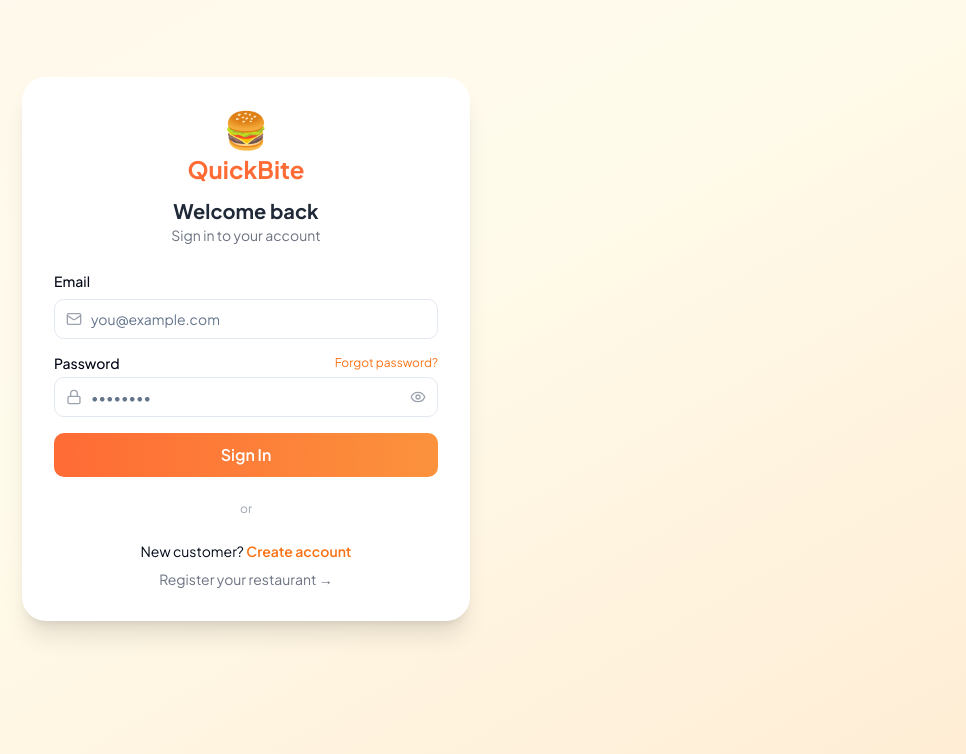
LoginPage › shows unverified email prompt for unconfirmed users
Step 1. Type "user@example.com" into the field with test id "email-input" → coordinates (246, 319), box [54, 299, 438, 339]
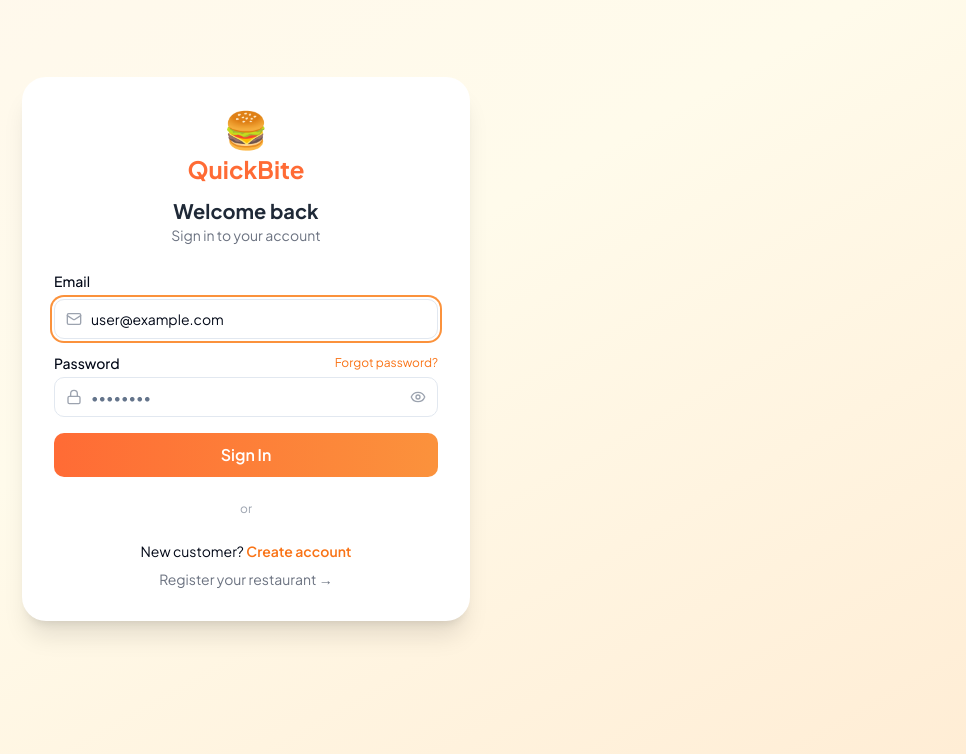
Step 2. Type "Password1!" into the password field with test id "password-input" → coordinates (246, 397), box [54, 377, 438, 417]
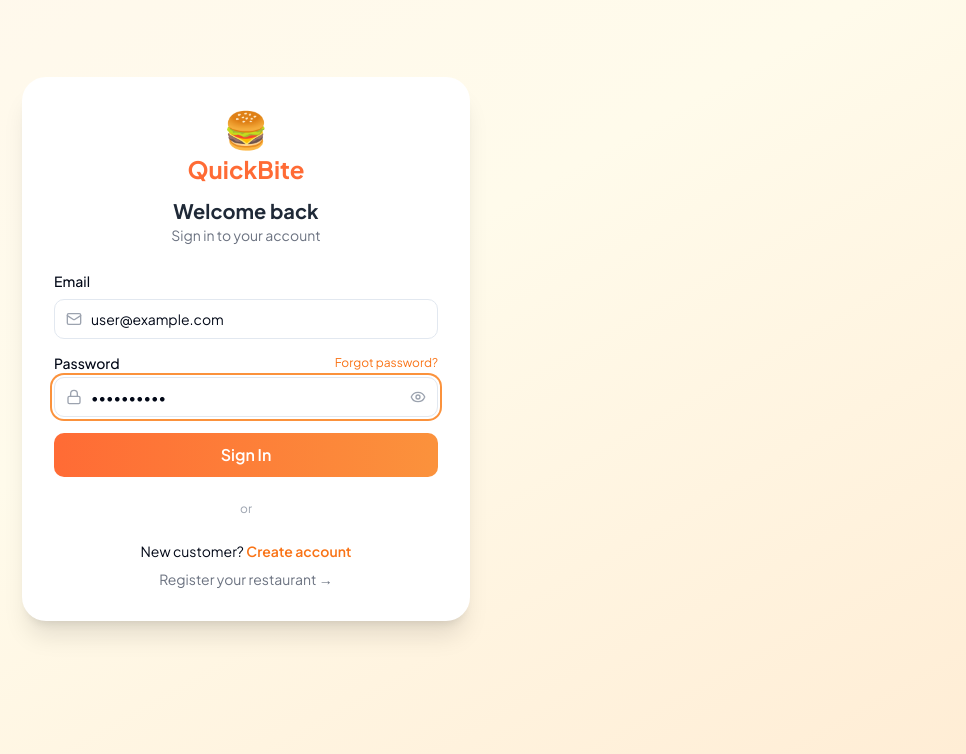
Step 3. Click the button with test id "submit-btn" → coordinates (246, 455), box [54, 433, 438, 477]
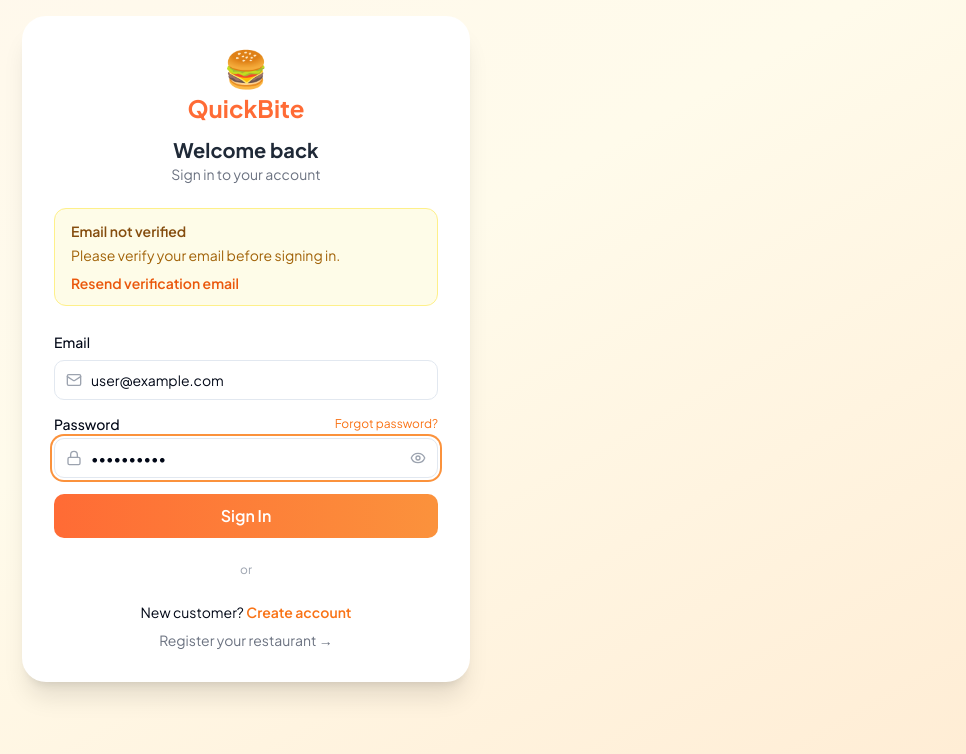
Now the text "Email not verified" is shown, box [71, 222, 186, 240]
Now the button "Resend verification email" is shown, box [71, 273, 239, 293]
